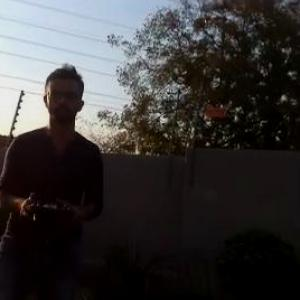follow: (0, 58, 110, 299)
